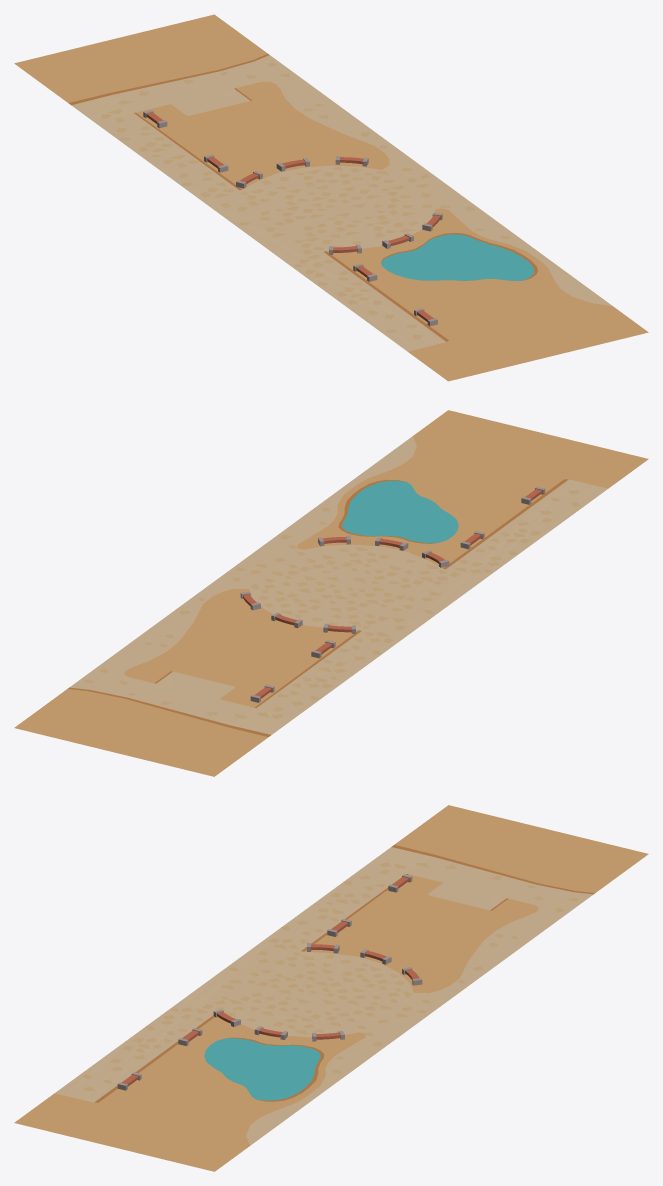
Rendered from west_start.FBX.
3 views of the same model, one above another, from view 1: azimuth 30°, elevation 25°; view 2: azimuth 150°, elevation 25°; view 3: azimuth 330°, elevation 25° (orthographic).
Parts seen in each view (by area): view 1: west_start; view 2: west_start; view 3: west_start.
Boxes of the visible parts, left/top/right/bottom form: west_start: left=14, top=14, right=648, bottom=381; west_start: left=14, top=410, right=648, bottom=776; west_start: left=14, top=805, right=648, bottom=1171.
Bounding box in the file's own units: 5852 × 149 × 21939.
Materials: 1 (1 with a texture image).
